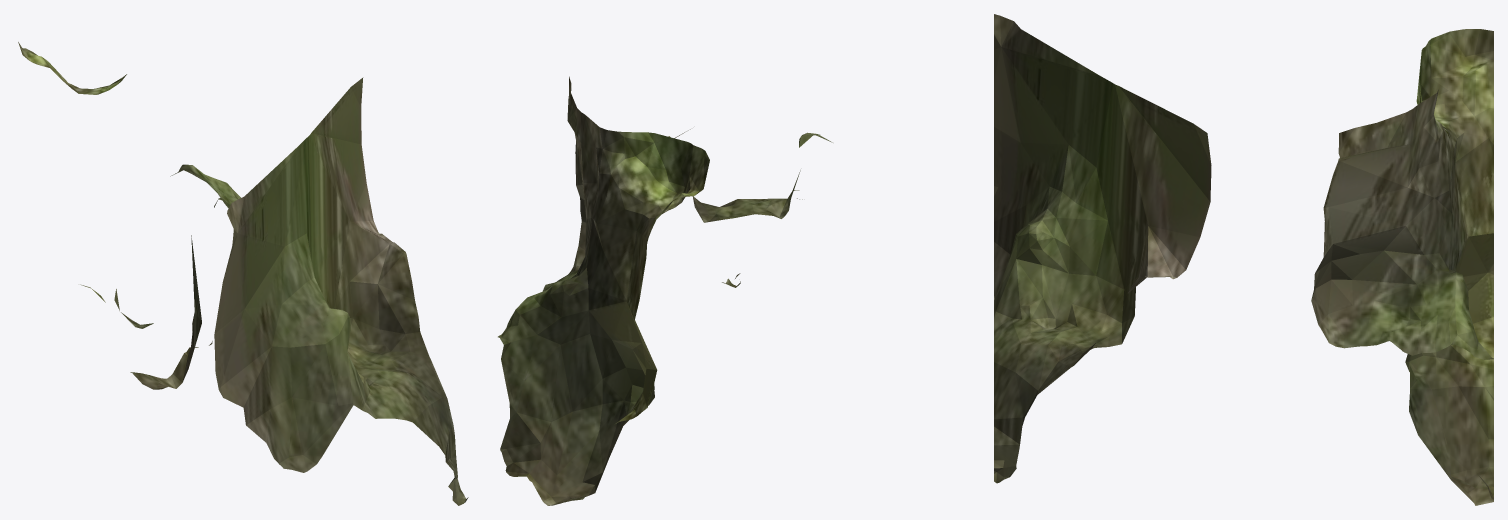
3 views of the same model, side by side, from view 1: azimuth 30°, elevation 25°; view 2: azimuth 150°, elevation 25°; view 3: azimuth 270°, elevation 25° (orthographic). The views are drawn at different scales.
Size of the model in its own units: 3.5 by 5.2 by 5.9.
Materials: 2 (2 with a texture image).
